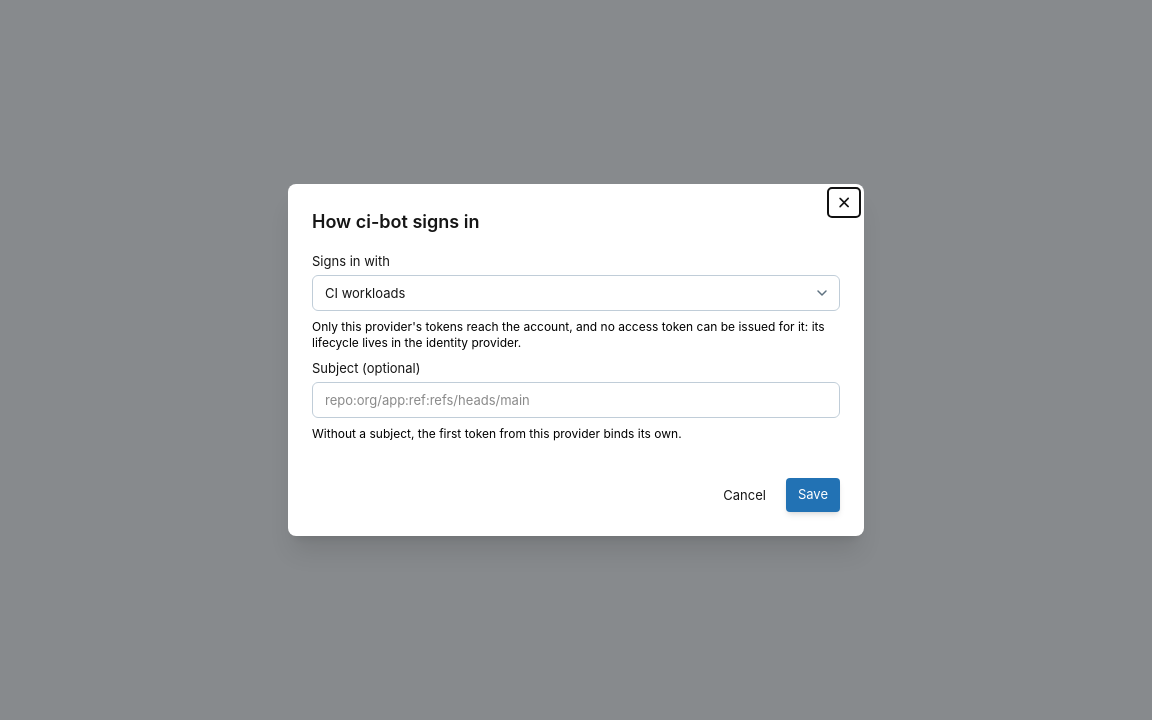
ServiceAccountSourceModal › offers no subject for an internal account
Select "Internal (issued access tokens only)" in the dropdown labelled "Signs in with" at (576, 293), box x1=312 y1=275 x2=840 y2=311
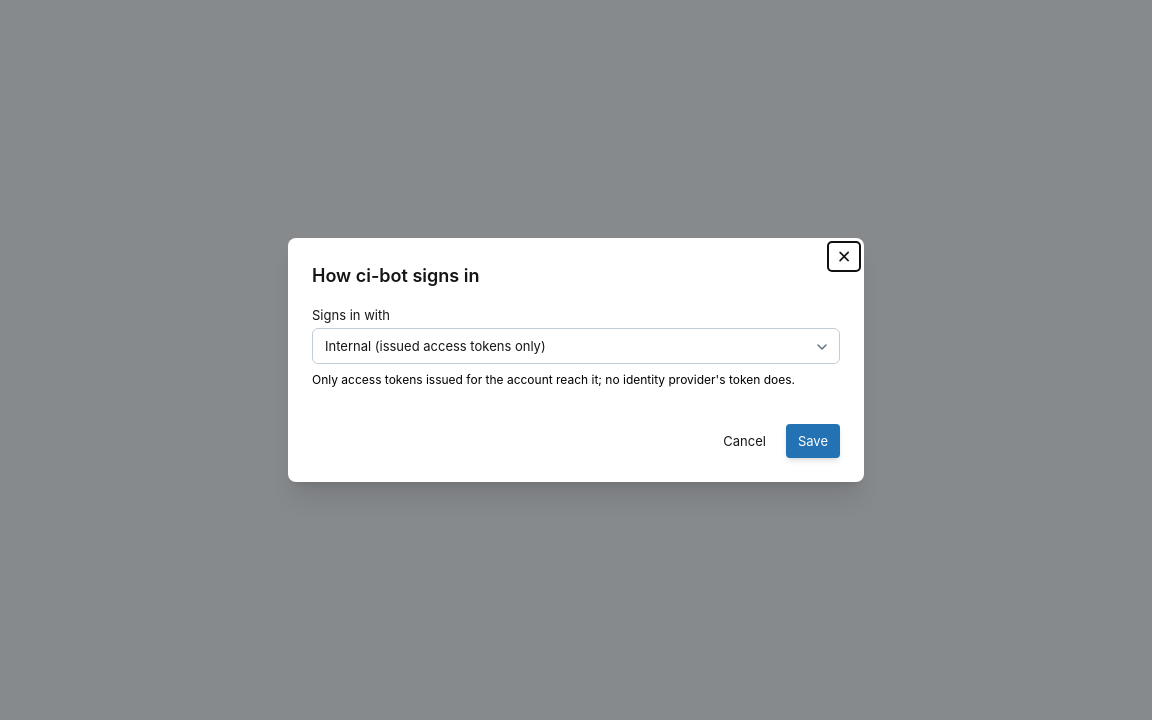
Check: the label labelled "Subject (optional)" is gone
